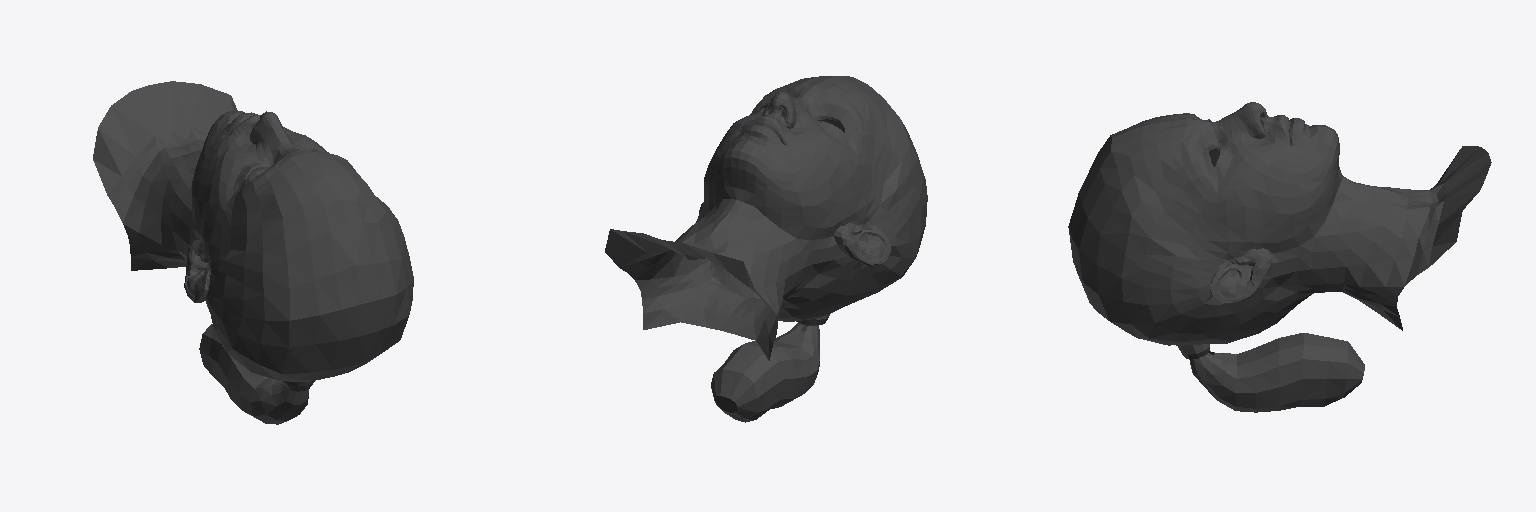
The model's file is head.obj.
3 renders of one model, left to right at view 1: azimuth 30°, elevation 25°; view 2: azimuth 150°, elevation 25°; view 3: azimuth 270°, elevation 25°, orthographic.
Parts seen in each view (by area): view 1: zoey_head_bmp_zoey_head_bmp.003; view 2: zoey_head_bmp_zoey_head_bmp.003; view 3: zoey_head_bmp_zoey_head_bmp.003.
Boxes of the visible parts, <box> form: zoey_head_bmp_zoey_head_bmp.003: <box>93,81,413,424</box>; zoey_head_bmp_zoey_head_bmp.003: <box>605,76,927,422</box>; zoey_head_bmp_zoey_head_bmp.003: <box>1068,102,1491,412</box>.
Size of the model in its own units: 0.1387 by 0.2254 by 0.2818.